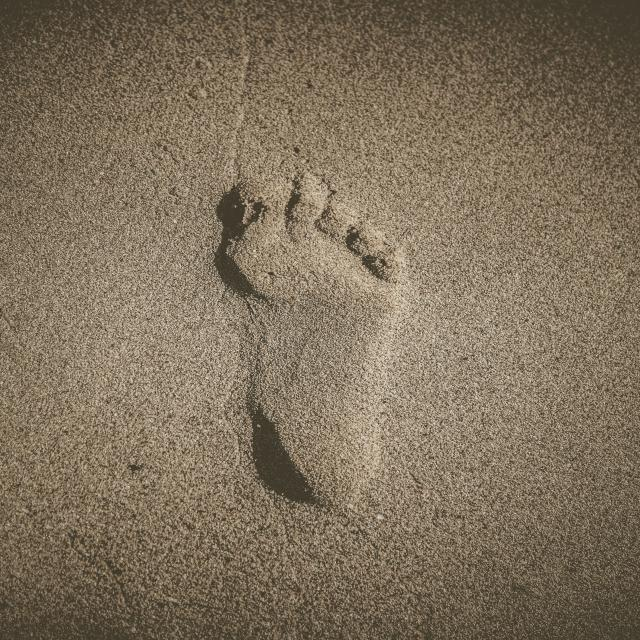human_footprint: (205, 178, 428, 518)
